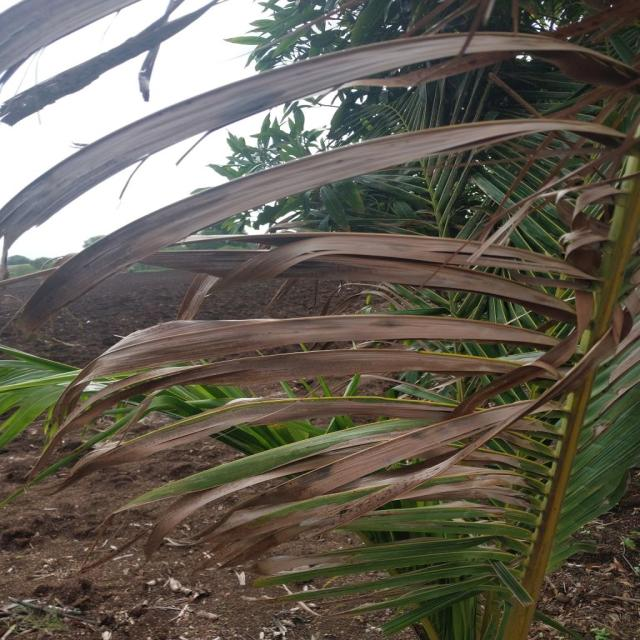gray leaf spot: (0, 0, 640, 640)
